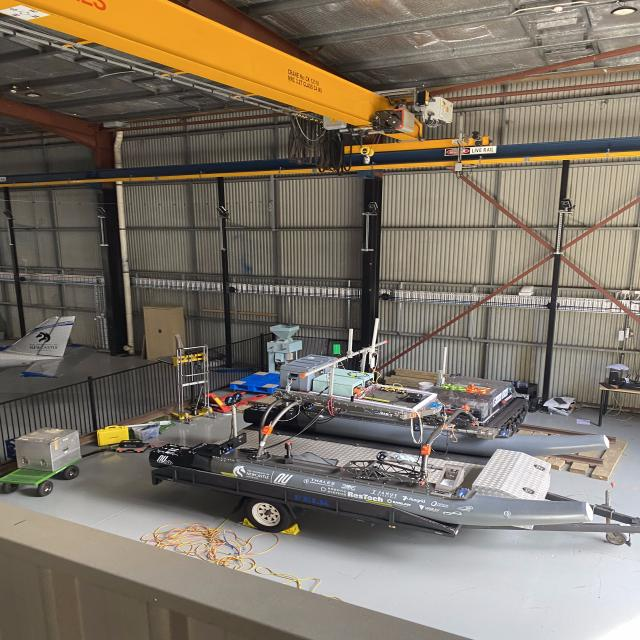matrix: (333, 344, 341, 355)
